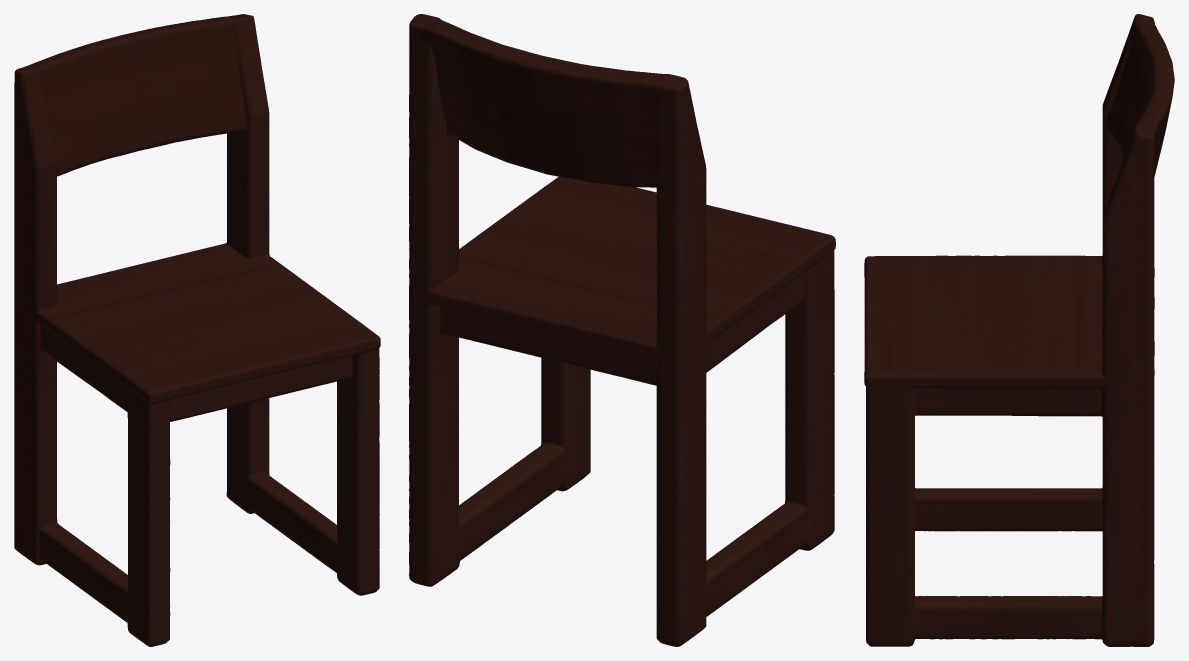
Rendered from Modern Dark Wood Side Chair [2wbWht].glb.
3 views of the same model, side by side, from view 1: azimuth 30°, elevation 25°; view 2: azimuth 150°, elevation 25°; view 3: azimuth 270°, elevation 25° (orthographic). The views are drawn at different scales.
Parts seen in each view (by area): view 1: world; view 2: world; view 3: world.
Boxes of the visible parts, <box> form: world: <box>14,14,380,646</box>; world: <box>409,14,835,646</box>; world: <box>864,14,1174,646</box>.
Size of the model in its own units: 0.5097 by 1 by 0.5478.
Materials: 1 (1 with a texture image).
